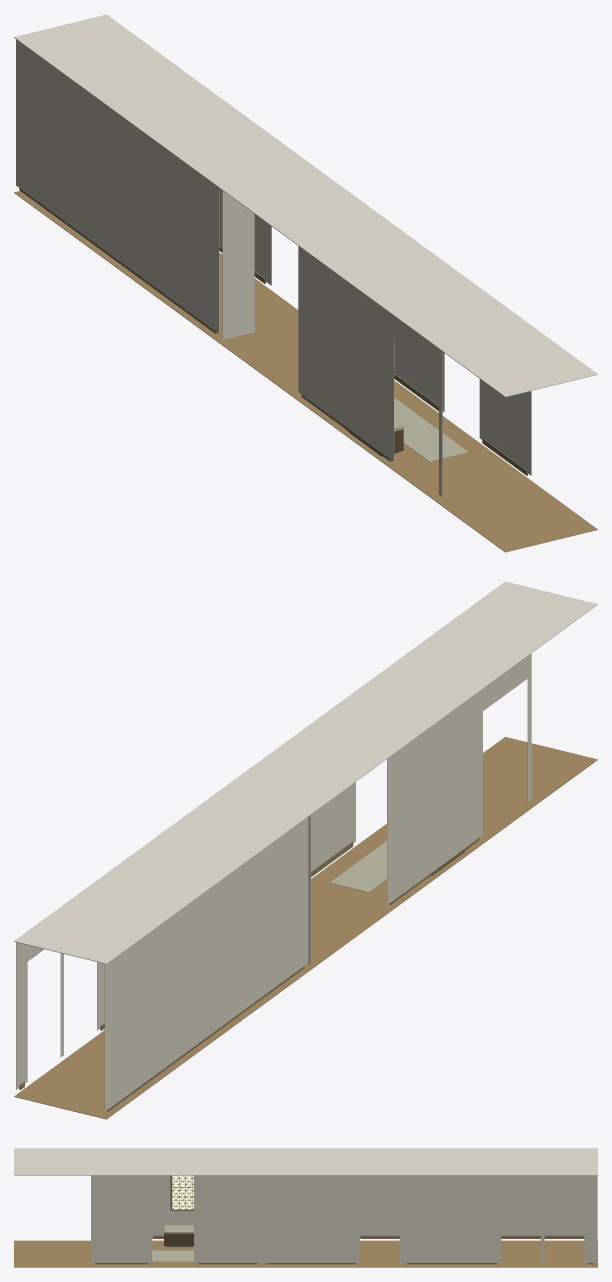
The model's file is corridor-1.glb.
3 renders of one model, top to bottom at view 1: azimuth 30°, elevation 25°; view 2: azimuth 150°, elevation 25°; view 3: azimuth 270°, elevation 25°, orthographic. The views are drawn at different scales.
Parts seen in each view (by area): view 1: DESIGN | Entrance coordinated ceiling, DESIGN | Entrance paired wall finish, DESIGN | Entrance floor finish, DESIGN | Entrance paired wall finish.003, DESIGN | Arch approach finish, DESIGN | Entrance paired wall finish.013, DESIGN | Entrance quiet runner, DESIGN | Entrance paired wall finish.012, DESIGN | Entrance paired wall finish.006, DESIGN | Entrance paired wall finish.002; view 2: DESIGN | Entrance coordinated ceiling, DESIGN | Entrance paired wall finish, DESIGN | Entrance floor finish, DESIGN | Entrance paired wall finish.003, DESIGN | Entrance paired wall finish.012, DESIGN | Entrance paired wall finish.005, DESIGN | Entrance quiet runner, DESIGN | Entrance paired wall finish.002, DESIGN | Entrance paired wall finish.001; view 3: DESIGN | Entrance coordinated ceiling, DESIGN | Entrance paired wall finish.006, DESIGN | Entrance paired wall finish.009, DESIGN | Entrance floor finish, DESIGN | Entrance paired wall finish.012, DESIGN | Entrance paired wall finish, DESIGN | Entrance paired wall finish.013, DESIGN | Entrance paired wall finish.003, DESIGN | Entrance paired wall finish.005, DESIGN | Kumiko opal diffuser, DESIGN | Entrance paired wall finish.007, DESIGN | Entrance paired wall finish.010 (+8 smaller).
Boxes of the visible parts, left/top/right/bottom form: DESIGN | Entrance coordinated ceiling: left=14, top=14, right=597, bottom=397; DESIGN | Entrance paired wall finish: left=16, top=39, right=219, bottom=333; DESIGN | Entrance floor finish: left=14, top=191, right=597, bottom=552; DESIGN | Entrance paired wall finish.003: left=298, top=246, right=394, bottom=461; DESIGN | Arch approach finish: left=222, top=190, right=254, bottom=339; DESIGN | Entrance paired wall finish.013: left=479, top=379, right=531, bottom=475; DESIGN | Entrance quiet runner: left=394, top=398, right=468, bottom=461; DESIGN | Entrance paired wall finish.012: left=394, top=339, right=444, bottom=411; DESIGN | Entrance paired wall finish.006: left=219, top=188, right=268, bottom=283; DESIGN | Entrance paired wall finish.002: left=394, top=316, right=438, bottom=370; DESIGN | Entrance coordinated ceiling: left=14, top=581, right=597, bottom=964; DESIGN | Entrance paired wall finish: left=104, top=817, right=308, bottom=1111; DESIGN | Entrance floor finish: left=14, top=737, right=597, bottom=1119; DESIGN | Entrance paired wall finish.003: left=387, top=689, right=482, bottom=904; DESIGN | Entrance paired wall finish.012: left=311, top=782, right=355, bottom=871; DESIGN | Entrance paired wall finish.005: left=16, top=942, right=27, bottom=1089; DESIGN | Entrance quiet runner: left=329, top=841, right=386, bottom=892; DESIGN | Entrance paired wall finish.002: left=483, top=656, right=527, bottom=710; DESIGN | Entrance paired wall finish.001: left=527, top=653, right=531, bottom=801; DESIGN | Entrance coordinated ceiling: left=14, top=1148, right=597, bottom=1175; DESIGN | Entrance paired wall finish.006: left=402, top=1175, right=501, bottom=1262; DESIGN | Entrance paired wall finish.009: left=262, top=1175, right=359, bottom=1262; DESIGN | Entrance floor finish: left=14, top=1240, right=597, bottom=1267; DESIGN | Entrance paired wall finish.012: left=194, top=1175, right=262, bottom=1262; DESIGN | Entrance paired wall finish: left=360, top=1176, right=584, bottom=1236; DESIGN | Entrance paired wall finish.013: left=91, top=1175, right=152, bottom=1262; DESIGN | Entrance paired wall finish.003: left=152, top=1175, right=193, bottom=1236; DESIGN | Entrance paired wall finish.005: left=584, top=1175, right=597, bottom=1262; DESIGN | Kumiko opal diffuser: left=172, top=1175, right=193, bottom=1209; DESIGN | Entrance paired wall finish.007: left=501, top=1175, right=540, bottom=1191; DESIGN | Entrance paired wall finish.010: left=360, top=1175, right=399, bottom=1191.
Size of the model in its own units: 1.7 by 2.73 by 15.61.
